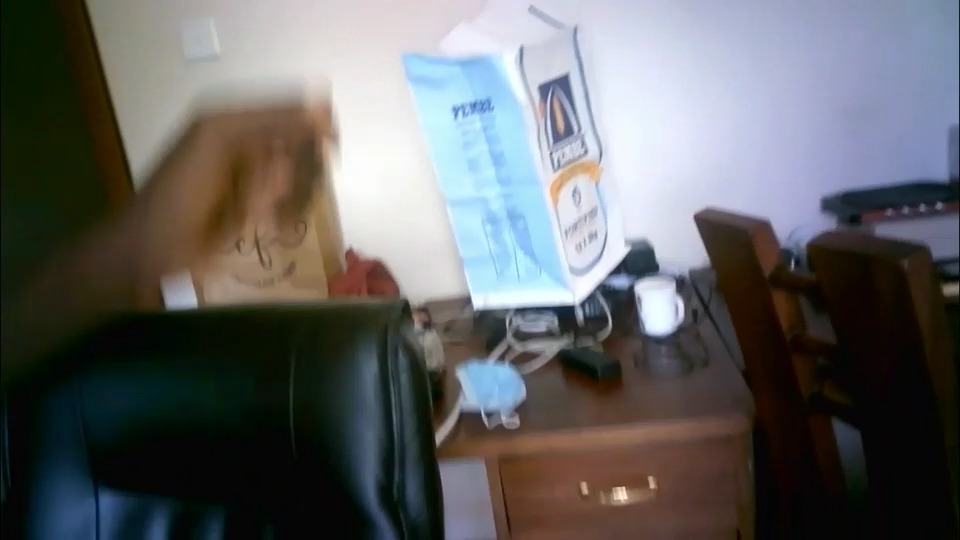wheat_flour_blue_label: (401, 2, 633, 300)
